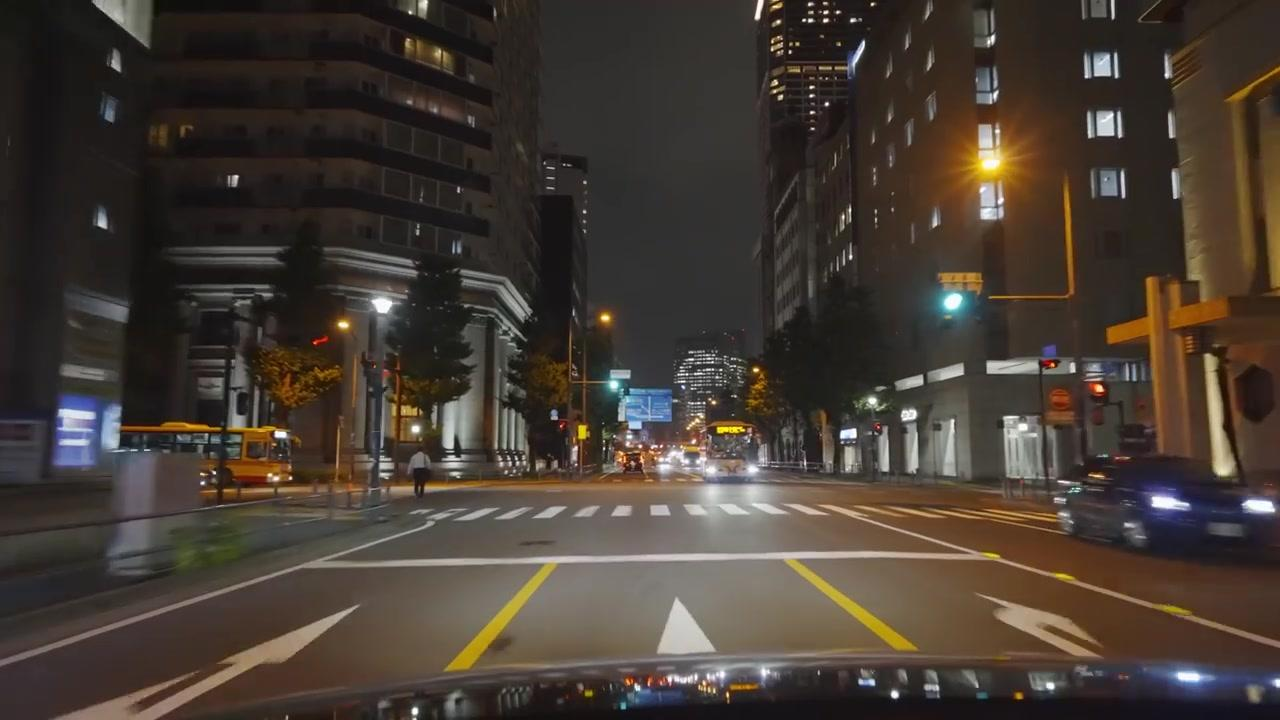bus: (118, 422, 295, 486), (703, 421, 753, 481)
car: (1055, 454, 1279, 556), (703, 451, 751, 481), (658, 452, 703, 482)
person: (408, 445, 431, 499)
traffic light: (937, 289, 966, 328), (1087, 379, 1108, 413)
